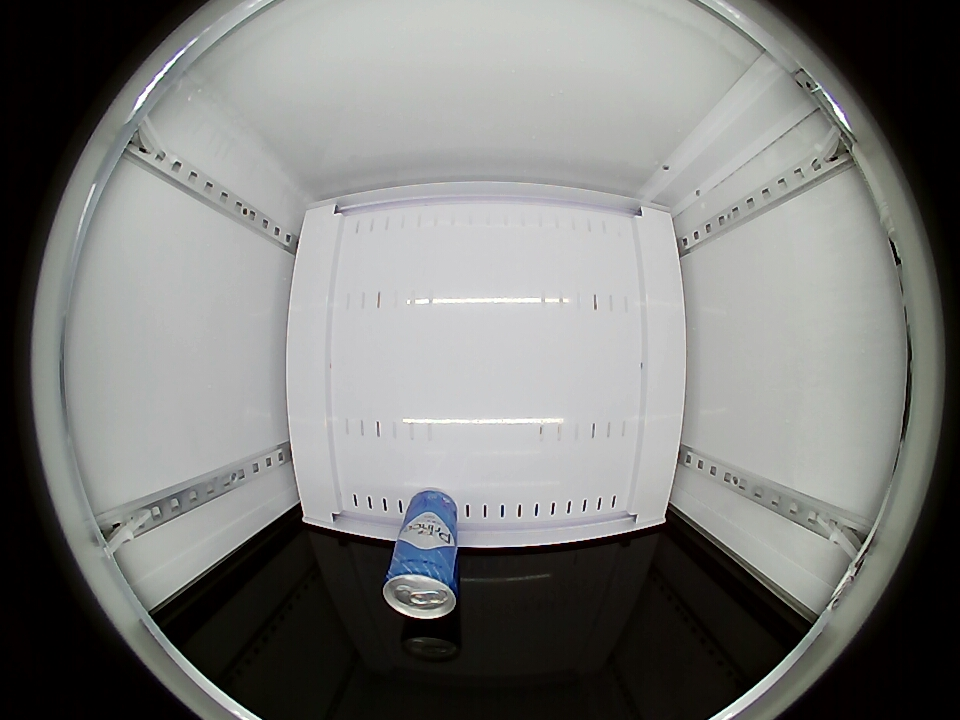qingdaowangzi-2: (383, 553, 460, 620)
